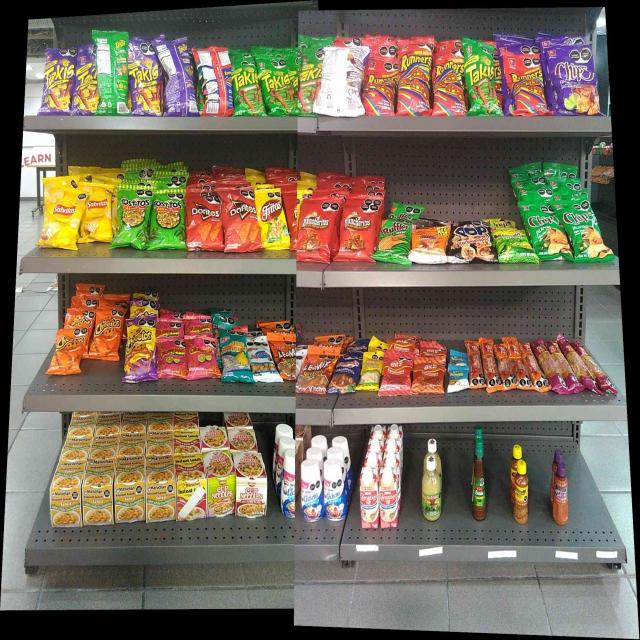bitzAlmendras: (448, 364, 470, 389)
bitzEnchilado90: (414, 355, 445, 393), (383, 352, 411, 394)
bitzEnchilado95: (540, 341, 610, 393), (471, 342, 532, 388)
bokadosCacahuates: (332, 356, 358, 394)
botaneraChilito: (514, 460, 528, 522)
cheetosFlaminHot: (126, 320, 155, 379)
cheetosOriginal: (87, 308, 120, 358), (57, 330, 85, 374)
chipsFuego: (546, 44, 595, 116)
chipsJalapeno: (564, 200, 603, 263), (531, 210, 563, 262)
chipsPapatinas: (494, 230, 530, 264)
churrumais: (190, 336, 216, 378), (158, 341, 186, 378)
delPrimoSalsa: (422, 458, 441, 522)
doritosNacho: (187, 193, 221, 251), (223, 192, 256, 250)
fritosLimon: (258, 192, 288, 250)
leoCacahuates: (250, 338, 271, 382)
leoMix: (297, 343, 329, 394), (272, 332, 296, 379)
maruchanPollo: (50, 459, 80, 527), (84, 459, 114, 524), (146, 454, 175, 521), (115, 458, 144, 522)
maruchanRes: (178, 454, 205, 520)
nestleCarnation: (360, 468, 379, 527), (381, 467, 398, 529)
nestleLechera: (322, 462, 346, 522), (300, 460, 321, 520), (283, 452, 294, 517)
nissinCamaron: (208, 450, 235, 516)
nissinRes: (236, 450, 266, 518)
popKarameladas: (450, 222, 491, 261), (411, 222, 448, 262)
productoAtras: (322, 47, 359, 116), (193, 48, 230, 115), (98, 32, 127, 115), (161, 41, 192, 115)
rancheritos: (336, 200, 373, 260), (300, 201, 334, 262)
rufflesQueso: (377, 220, 410, 266)
runners: (398, 41, 430, 116), (361, 56, 396, 118), (510, 55, 544, 117), (432, 52, 465, 115)
sabritasOriginal: (44, 188, 81, 250), (84, 184, 112, 241)
salsaBufalo: (472, 442, 487, 520)
semillasCalabaza: (360, 351, 380, 391)
semillasGirasol: (219, 326, 248, 379)
tajinDulce: (554, 464, 569, 525)
takisFuego: (128, 39, 160, 116), (45, 48, 75, 115), (76, 47, 96, 114)
takisOriginal: (466, 38, 499, 115), (260, 59, 289, 116), (232, 66, 259, 117), (297, 50, 316, 115)
tostitos: (149, 190, 184, 250), (117, 186, 147, 248)
